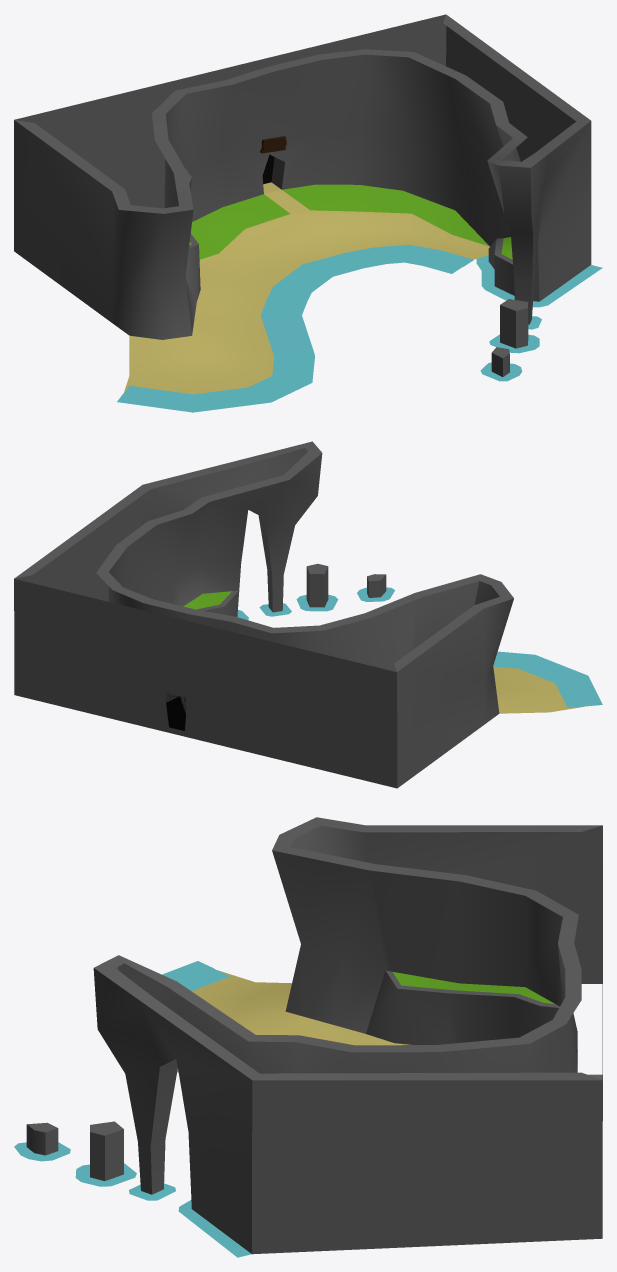
The model's file is SM_BeachScene.fbx.
3 views of the same model, one above another, from view 1: azimuth 30°, elevation 25°; view 2: azimuth 150°, elevation 25°; view 3: azimuth 270°, elevation 25° (orthographic). The views are drawn at different scales.
Parts seen in each view (by area): view 1: Cliffs, Sand, Rocks, Waves2, Waves1, RocksWater; view 2: Cliffs, Rocks, Sand, Waves2, Waves1, RocksWater, BlackHole; view 3: Cliffs, Rocks, Sand, RocksWater.
Part boxes in pixels (<box>): Cliffs: <box>14,14,591,339</box>; Sand: <box>124,184,512,394</box>; Rocks: <box>15,14,590,376</box>; Waves2: <box>117,253,462,412</box>; Waves1: <box>123,244,473,403</box>; RocksWater: <box>476,255,602,381</box>; Cliffs: <box>14,448,513,788</box>; Rocks: <box>14,441,513,671</box>; Sand: <box>183,591,584,713</box>; Waves2: <box>495,651,602,706</box>; Waves1: <box>493,659,584,707</box>; RocksWater: <box>237,587,394,620</box>; BlackHole: <box>166,693,185,730</box>; Cliffs: <box>93,825,602,1254</box>; Rocks: <box>26,817,602,1180</box>; Sand: <box>191,970,555,1045</box>; RocksWater: <box>14,1142,251,1257</box>.
Size of the model in its own units: 8482 by 2843 by 7122.
